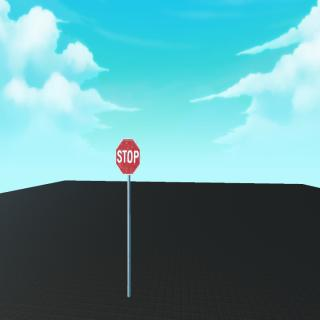STOP: (115, 138, 142, 176)
